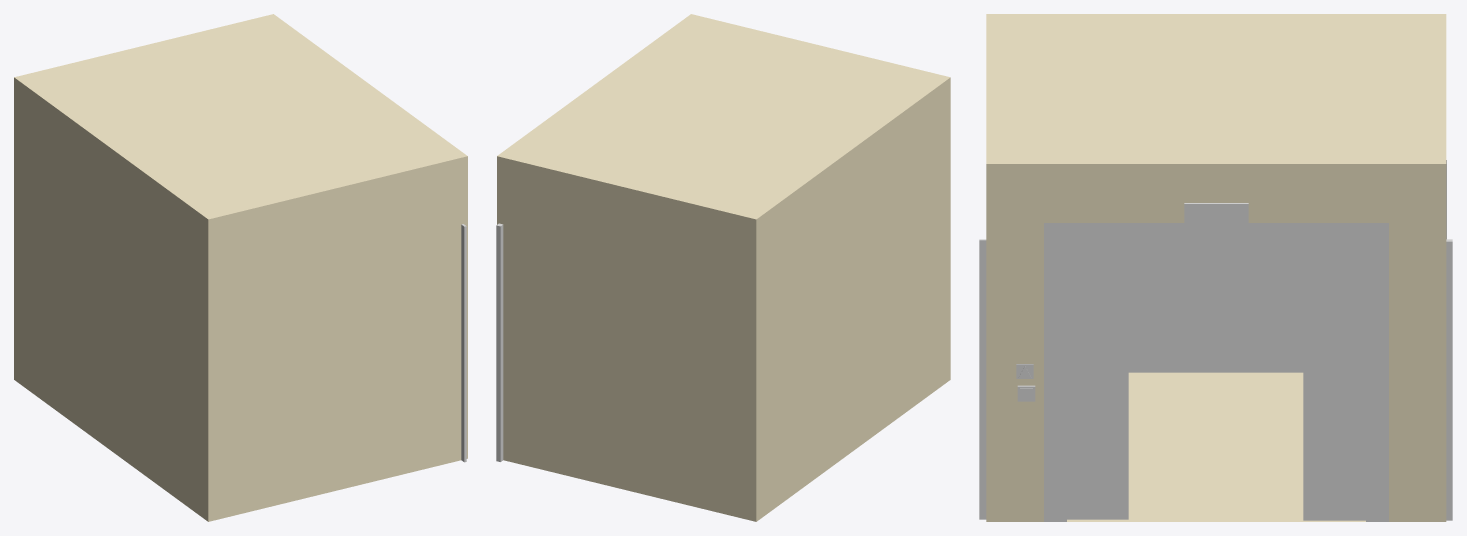
File: elevador=).fbx
The picture shows the model from 3 angles, left to right: view 1: azimuth 30°, elevation 25°; view 2: azimuth 150°, elevation 25°; view 3: azimuth 270°, elevation 25°; orthographic projection. The views are drawn at different scales.
Visible parts, largest first — view 1: Elevator, Door.001; view 2: Elevator, Door; view 3: Elevator, Door, Door.001, Top.
Boxes of the visible parts, x1=… form: Elevator: x1=14, y1=14, x2=467, y2=521; Door.001: x1=461, y1=224, x2=466, y2=462; Elevator: x1=497, y1=14, x2=950, y2=521; Door: x1=496, y1=223, x2=503, y2=461; Elevator: x1=986, y1=14, x2=1446, y2=521; Door: x1=1303, y1=239, x2=1452, y2=520; Door.001: x1=979, y1=239, x2=1128, y2=519; Top: x1=1184, y1=203, x2=1248, y2=226.
Bounding box in the file's own units: 599 × 662 × 793.
